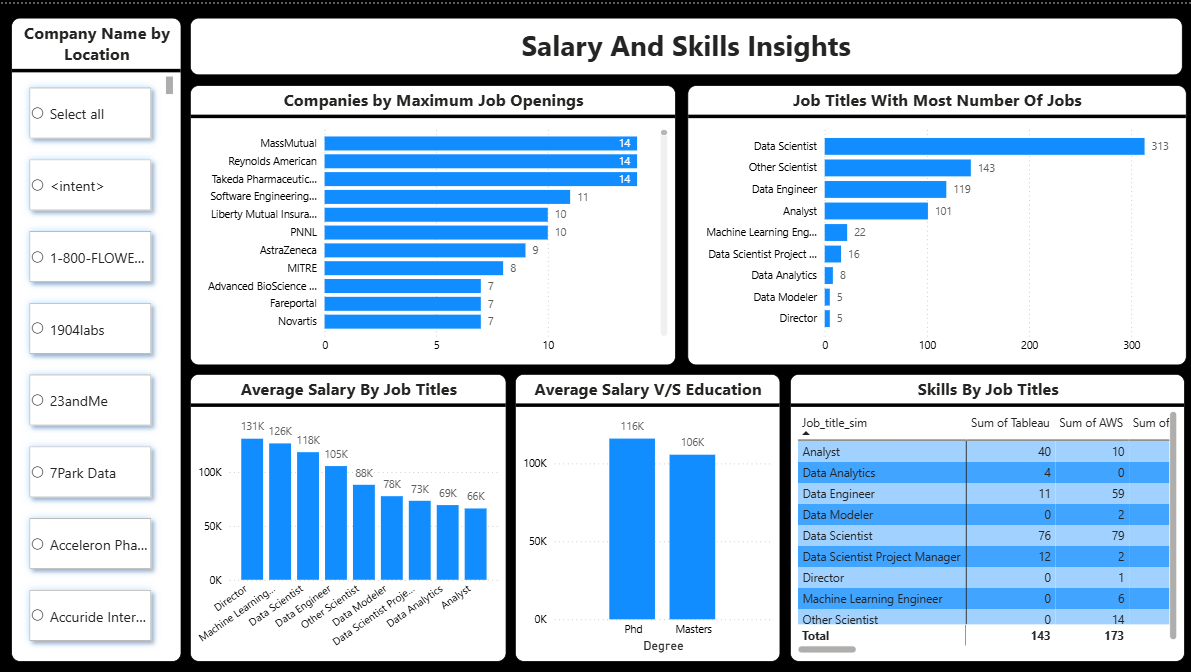

Layout of this report page (visuals, bound fields, positions):
{"tool":"powerbi","page":{"name":"Page 2","canvas":[1366,768],"ordinal":1},"visuals":[{"type":"barChart","title":"Companies by Maximum Job Openings","fields":{"Category":["Job_Market_Analysis (5).Company_Name"],"Y":["CountNonNull(Job_Market_Analysis (5).Job_title_sim)"]},"box":[216.7,93.3,555,320],"z":0},{"type":"barChart","title":"Job Titles With Most Number Of Jobs","fields":{"Y":["CountNonNull(Job_Market_Analysis (5).ID)"],"Category":["Job_Market_Analysis (5).Job_title_sim"]},"box":[785,93.3,570,320],"z":1000},{"type":"clusteredColumnChart","title":"Average Salary By Job Titles","fields":{"Category":["Job_Market_Analysis (5).Job_title_sim"],"Y":["Avg(Job_Market_Analysis (5).Avg_Salary)"]},"box":[217.1,422.9,361.4,328.6],"z":2000},{"type":"pivotTable","title":"Skills By Job Titles ","fields":{"Rows":["Job_Market_Analysis (5).Job_title_sim"],"Values":["Sum(Job_Market_Analysis (5).Tableau)","Sum(Job_Market_Analysis (5).AWS)","Sum(Job_Market_Analysis (5).SQL)","Sum(Job_Market_Analysis (5).BI)","Sum(Job_Market_Analysis (5).Spark)","Sum(Job_Market_Analysis (5).Tensor)","Sum(Job_Market_Analysis (5).Excel)","Sum(Job_Market_Analysis (5).Python)","Sum(Job_Market_Analysis (5).Scikit)","Sum(Job_Market_Analysis (5).SAS)","Sum(Job_Market_Analysis (5).Pytorch)","Sum(Job_Market_Analysis (5).Mongo)"]},"box":[902.9,422.9,451.4,328.6],"z":3000},{"type":"clusteredColumnChart","title":"Average Salary V/S Education","fields":{"Category":["Job_Market_Analysis (5).Degree"],"Y":["Avg(Job_Market_Analysis (5).Avg_Salary)"]},"box":[588.6,422.9,302.9,328.6],"z":4000},{"type":"listSlicer","title":"Company Name by Location","fields":{"Values":["Job_Market_Analysis (5).Company_Name"]},"box":[12.9,15.7,194.3,735.7],"z":5000},{"type":"textbox","box":[217.1,15.7,1134.3,65.7],"z":6000}]}

Visuals, with their boxes in screenshot pixels (x1, y1, x2, y2), scaled from the page's 1366x768 canvas onto the 1191x672 screenshot:
"Companies by Maximum Job Openings" barChart: <region>189, 82, 673, 362</region>
"Job Titles With Most Number Of Jobs" barChart: <region>684, 82, 1181, 362</region>
"Average Salary By Job Titles" clusteredColumnChart: <region>189, 370, 504, 658</region>
"Skills By Job Titles " pivotTable: <region>787, 370, 1181, 658</region>
"Average Salary V/S Education" clusteredColumnChart: <region>513, 370, 777, 658</region>
"Company Name by Location" listSlicer: <region>11, 14, 181, 657</region>
textbox: <region>189, 14, 1178, 71</region>
